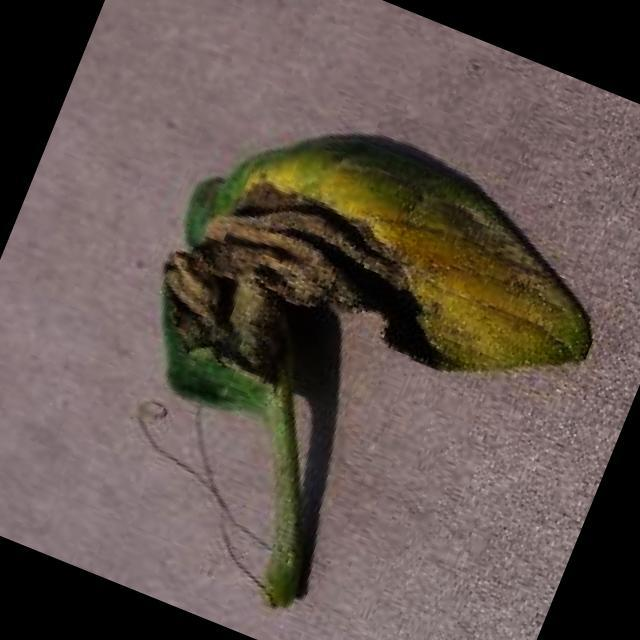Tomato late blight leaf: (117, 80, 628, 530)
